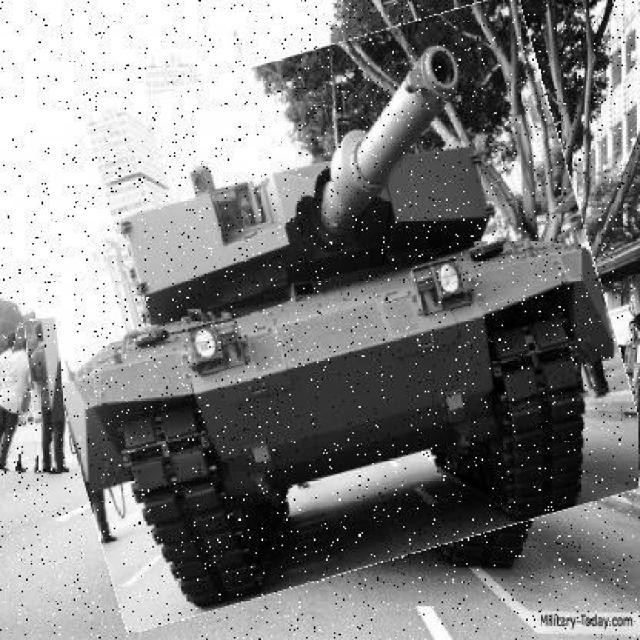Person: (29, 319, 69, 475), (1, 327, 41, 473)
Tank: (18, 26, 627, 601)
